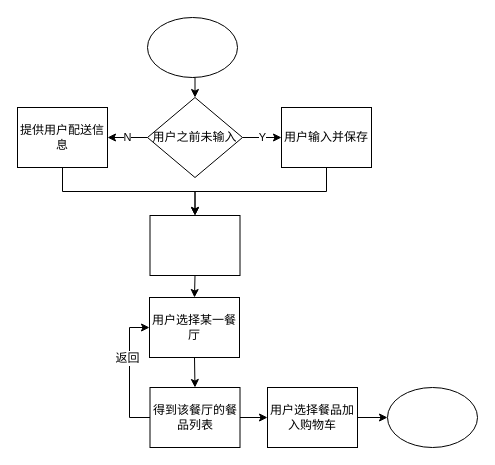
Some shapes in this 495 by 465 pixel diagram are drawn without their labels. The shapes that lost their labels are listed below. From the top down, each one's box as (x1, y1, x2, y2) in pixels, then its label:
(146, 16, 238, 78): 获取当前配送地址
(149, 214, 240, 276): 根据配送地址得到配送范围内的餐厅
(386, 386, 478, 448): 用户下单并支付
